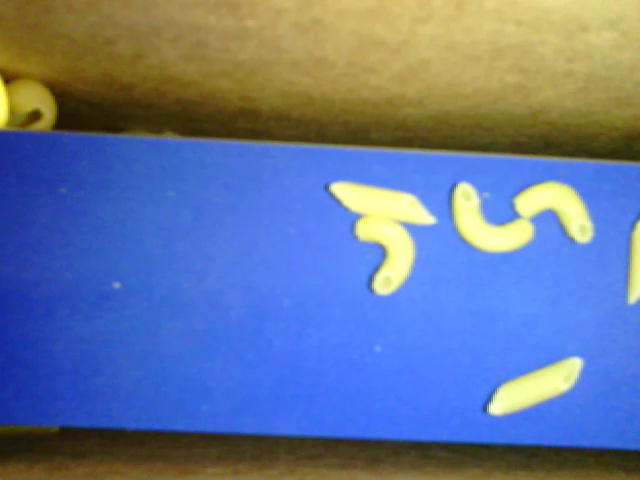elbow: (450, 183, 536, 254), (514, 178, 597, 247), (355, 218, 417, 297)
penne: (488, 353, 584, 420), (325, 181, 440, 228), (627, 219, 638, 309)
shell: (3, 74, 58, 136)
